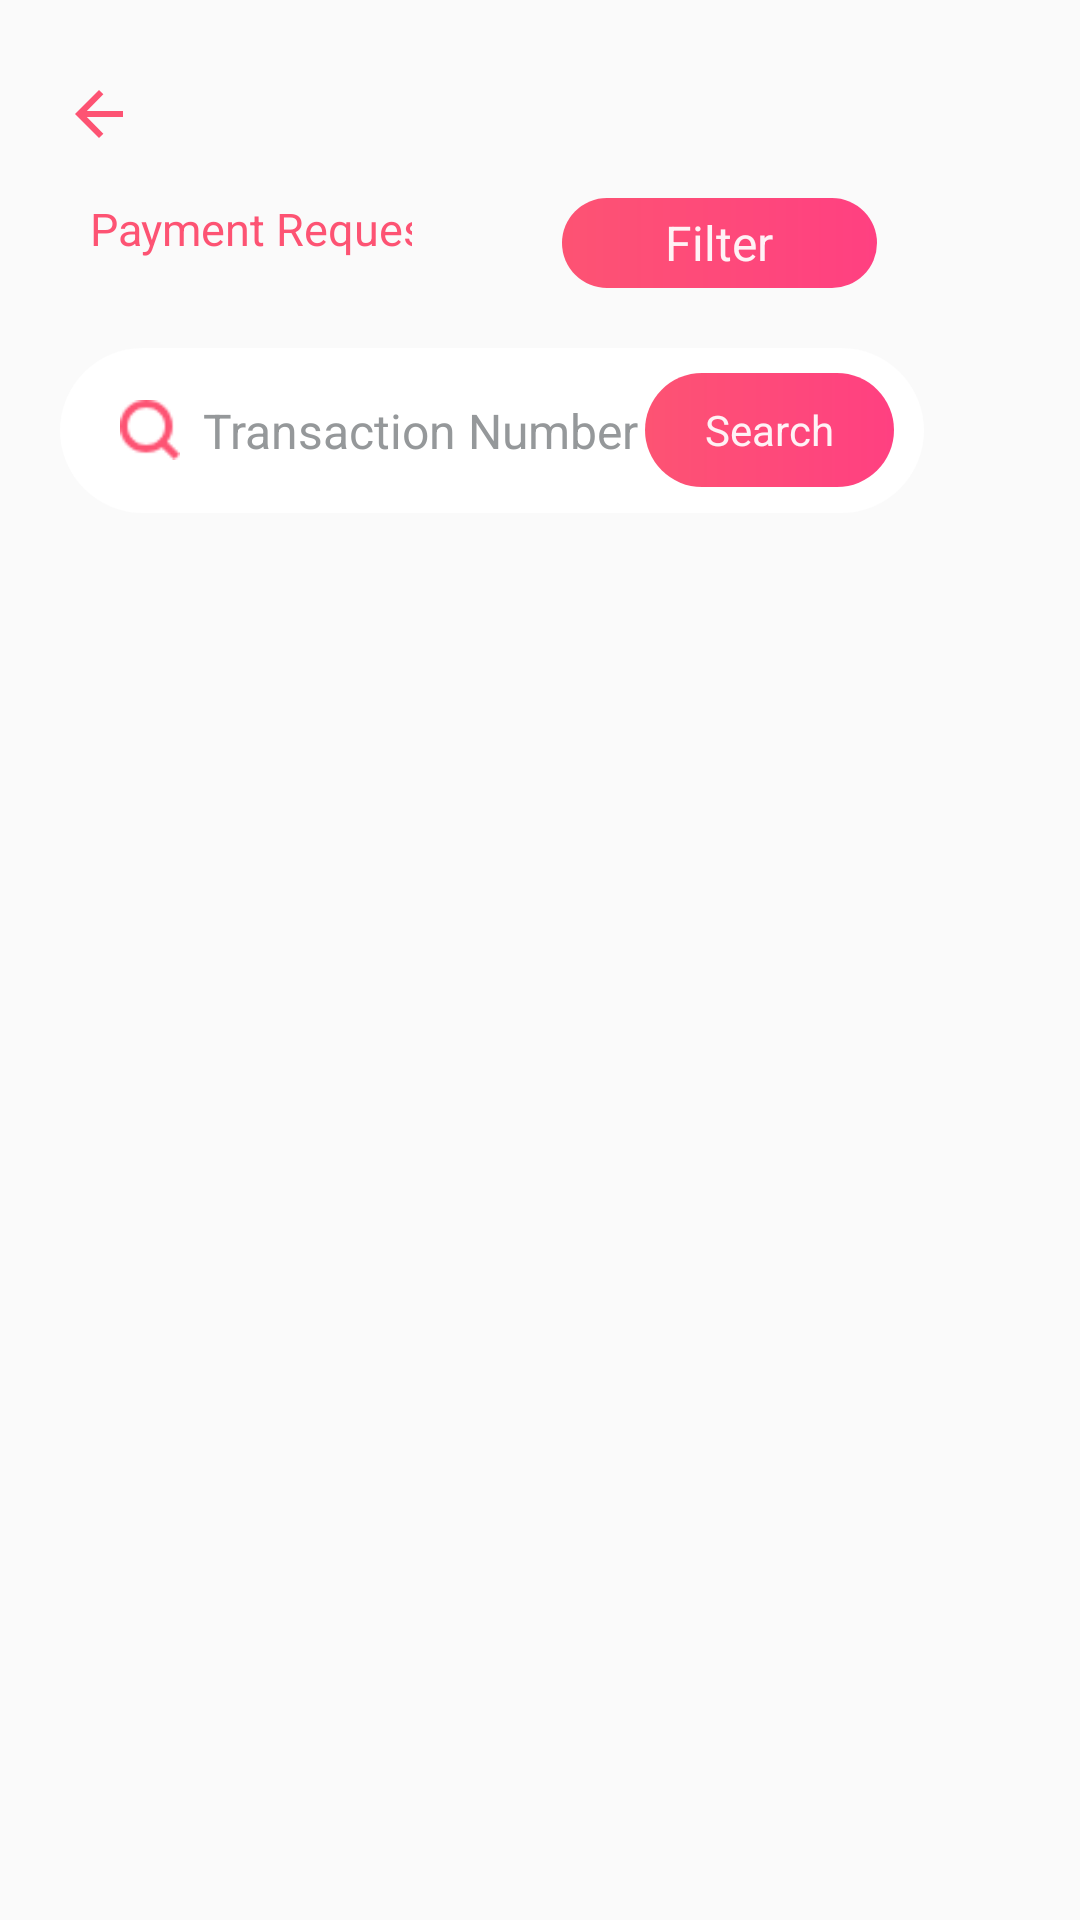

Icons on this 1080 × 1920 Android screen, each with its box as (x1, y1, x2, y2):
backward: (75, 90, 123, 138)
search: (120, 400, 180, 460)
